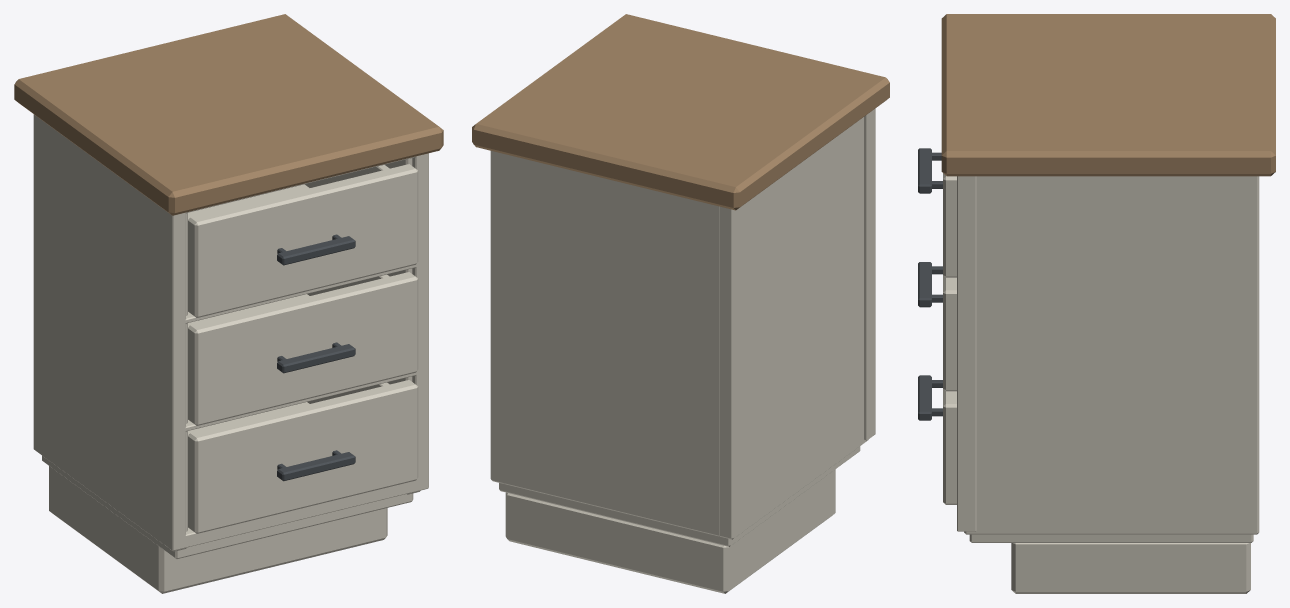
3 views of the same model, side by side, from view 1: azimuth 30°, elevation 25°; view 2: azimuth 150°, elevation 25°; view 3: azimuth 270°, elevation 25° (orthographic). The views are drawn at different scales.
Parts seen in each view (by area): view 1: Countertop, Side wall, Drawer front 1, Drawer front 0, Drawer front 2, Continuous front frame, Recessed plinth, Cabinet floor, Drawer handle 1, Drawer handle 2, Drawer handle 0, Drawer cavity floor 2; view 2: Rear panel, Countertop, Side wall, Recessed plinth, Side wall.001, Continuous front frame, Cabinet floor; view 3: Side wall.001, Countertop, Recessed plinth, Continuous front frame, Cabinet floor, Drawer front 1, Drawer front 0, Drawer front 2, Drawer handle 0, Drawer handle 2, Drawer handle 1.
Part boxes in pixels (x1=…): Countertop: x1=14, y1=14, x2=443, y2=215; Side wall: x1=33, y1=114, x2=187, y2=551; Drawer front 1: x1=188, y1=272, x2=418, y2=425; Drawer front 0: x1=188, y1=380, x2=418, y2=533; Drawer front 2: x1=188, y1=164, x2=418, y2=317; Continuous front frame: x1=164, y1=153, x2=428, y2=550; Recessed plinth: x1=49, y1=466, x2=387, y2=593; Cabinet floor: x1=42, y1=455, x2=413, y2=558; Drawer handle 1: x1=277, y1=344, x2=355, y2=373; Drawer handle 2: x1=277, y1=236, x2=355, y2=265; Drawer handle 0: x1=277, y1=452, x2=355, y2=481; Drawer cavity floor 2: x1=188, y1=184, x2=309, y2=219; Rear panel: x1=503, y1=154, x2=719, y2=536; Countertop: x1=472, y1=14, x2=889, y2=210; Side wall: x1=719, y1=117, x2=868, y2=539; Recessed plinth: x1=505, y1=469, x2=835, y2=593; Side wall.001: x1=490, y1=151, x2=504, y2=483; Continuous front frame: x1=864, y1=108, x2=875, y2=440; Cabinet floor: x1=499, y1=446, x2=860, y2=546; Side wall.001: x1=964, y1=176, x2=1259, y2=534; Countertop: x1=941, y1=14, x2=1275, y2=176; Recessed plinth: x1=1011, y1=543, x2=1250, y2=593; Continuous front frame: x1=957, y1=176, x2=976, y2=531; Cabinet floor: x1=969, y1=534, x2=1253, y2=542; Drawer front 1: x1=943, y1=275, x2=956, y2=391; Drawer front 0: x1=943, y1=389, x2=956, y2=504; Drawer front 2: x1=943, y1=173, x2=956, y2=277; Drawer handle 0: x1=918, y1=375, x2=931, y2=420; Drawer handle 2: x1=918, y1=148, x2=931, y2=193; Drawer handle 1: x1=918, y1=262, x2=931, y2=307.
Size of the model in its own units: 0.6 by 0.9 by 0.6425.
